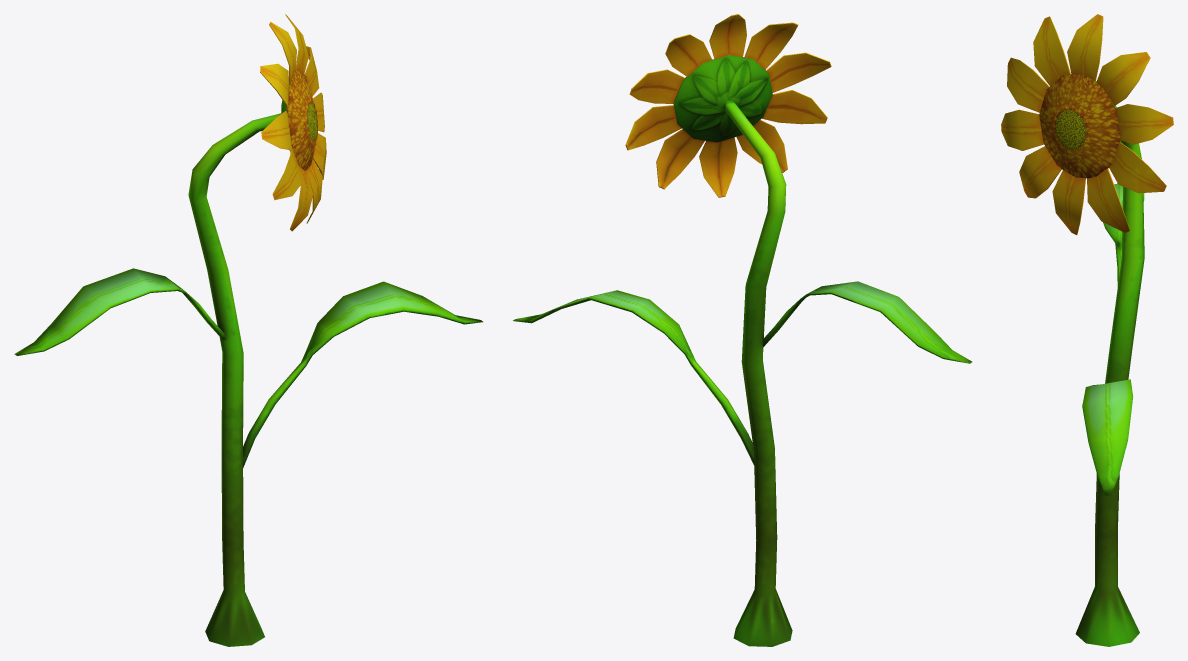
Rendered from Sunflower01.FBX.
3 renders of one model, left to right at view 1: azimuth 30°, elevation 25°; view 2: azimuth 150°, elevation 25°; view 3: azimuth 270°, elevation 25°, orthographic. The views are drawn at different scales.
Parts seen in each view (by area): view 1: Sunflower01; view 2: Sunflower01; view 3: Sunflower01.
Boxes of the visible parts, box(x1,y1,x2,y2) form: Sunflower01: box(14, 14, 482, 646); Sunflower01: box(513, 14, 972, 646); Sunflower01: box(1001, 14, 1173, 646).
Size of what is drawn, in the model's own units: 1.73 by 2.18 by 0.5374.
